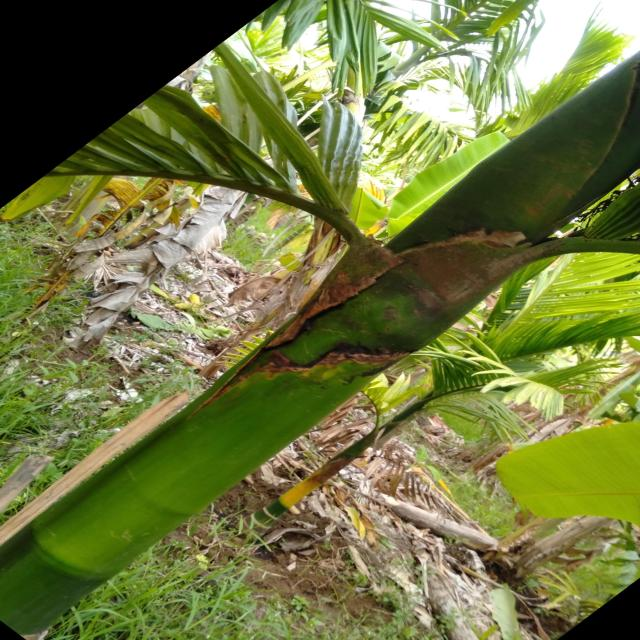Healthy_Trunk: (174, 122, 546, 513)
